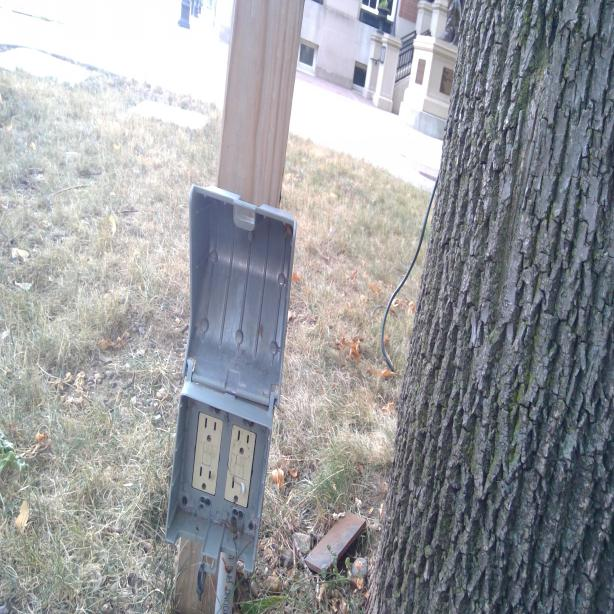typeb: (194, 460, 218, 495), (227, 472, 250, 506), (232, 424, 254, 458), (200, 414, 221, 446)
